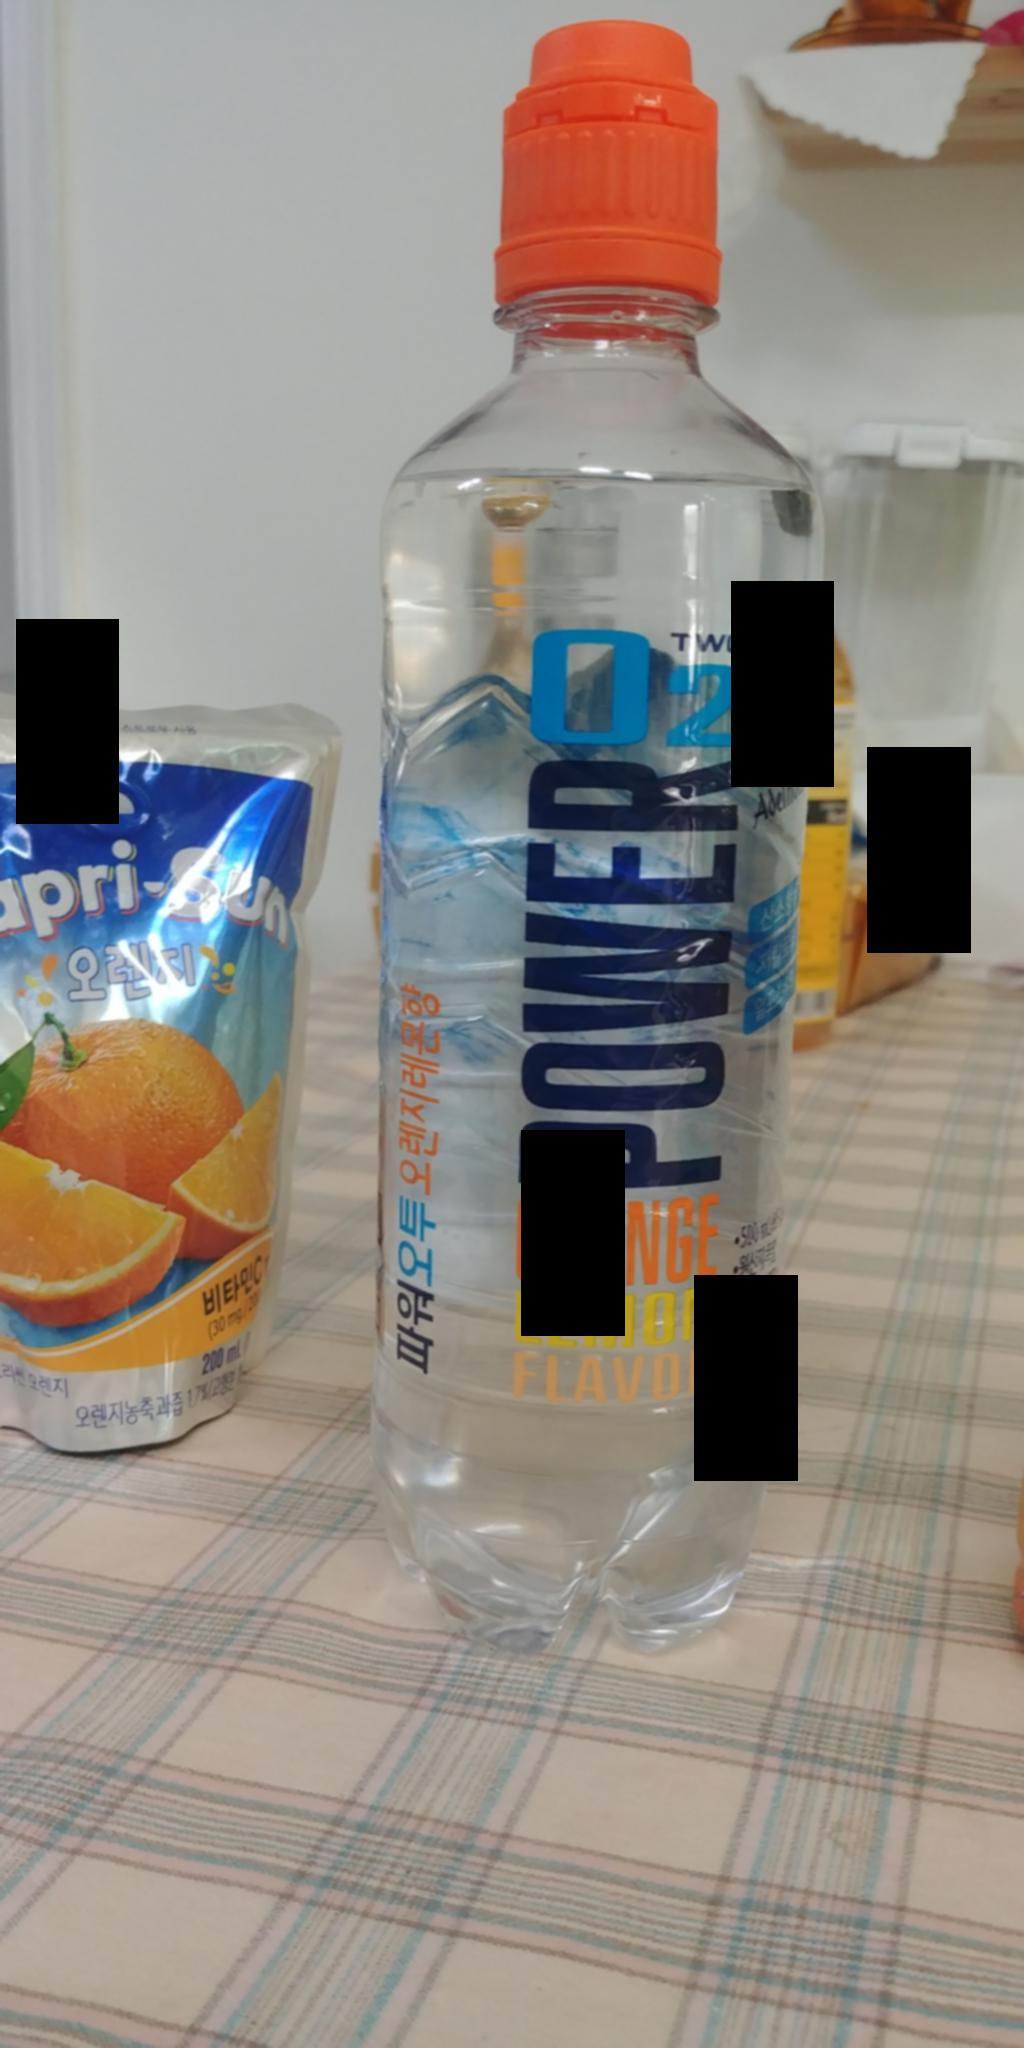cafrisun: (0, 678, 344, 1473)
powerO2_orange: (350, 14, 814, 1661)
